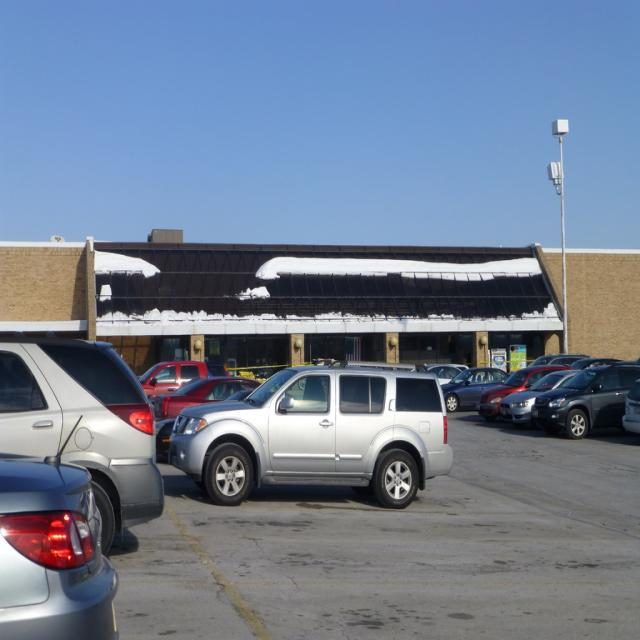other: (152, 364, 467, 514), (0, 334, 164, 550), (0, 420, 122, 639), (445, 352, 639, 439), (163, 368, 267, 452), (138, 352, 236, 403), (160, 380, 262, 418)
